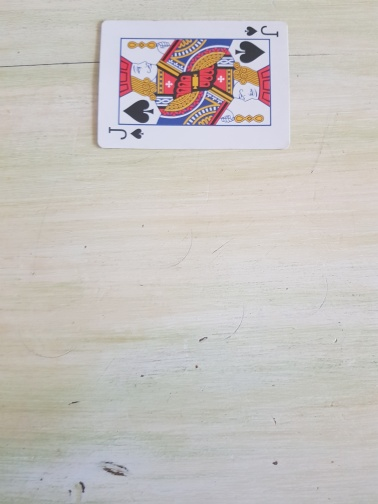jack: (96, 18, 290, 152)
